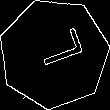L_W: (25, 30, 83, 77)
